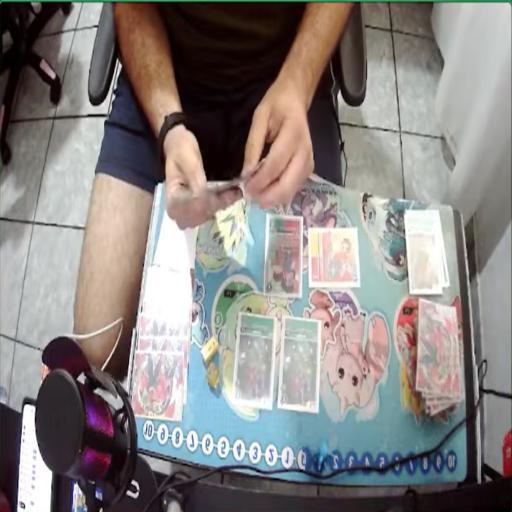card: (278, 320, 322, 414), (231, 320, 277, 409), (306, 230, 362, 292), (404, 212, 444, 296), (264, 215, 304, 298)
